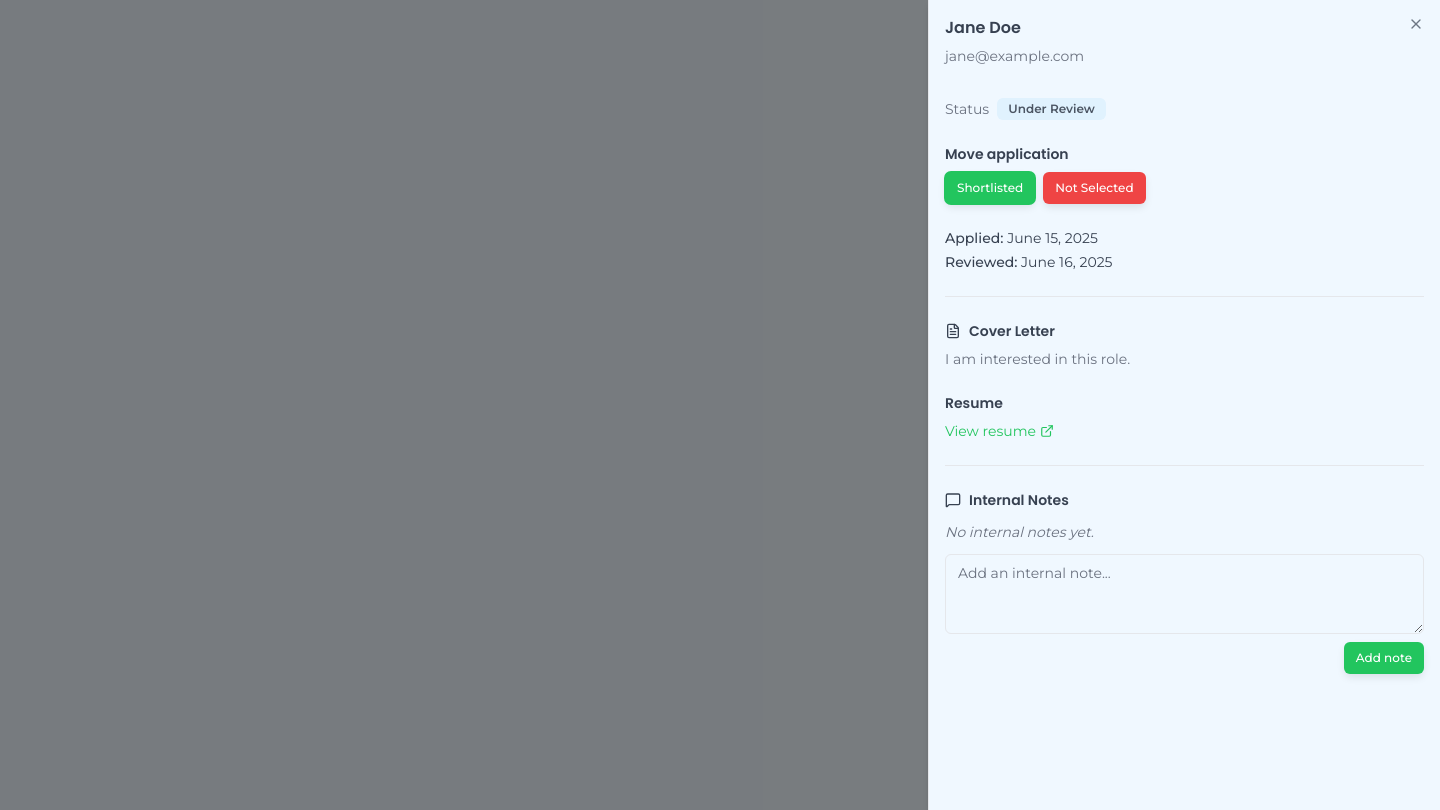
Scenario: ApplicantDetailSheet notes › adds a note and refreshes the thread
In the text box labelled "Add an internal note...": (1184,594) [945,554,1424,634], type "Follow up next week."
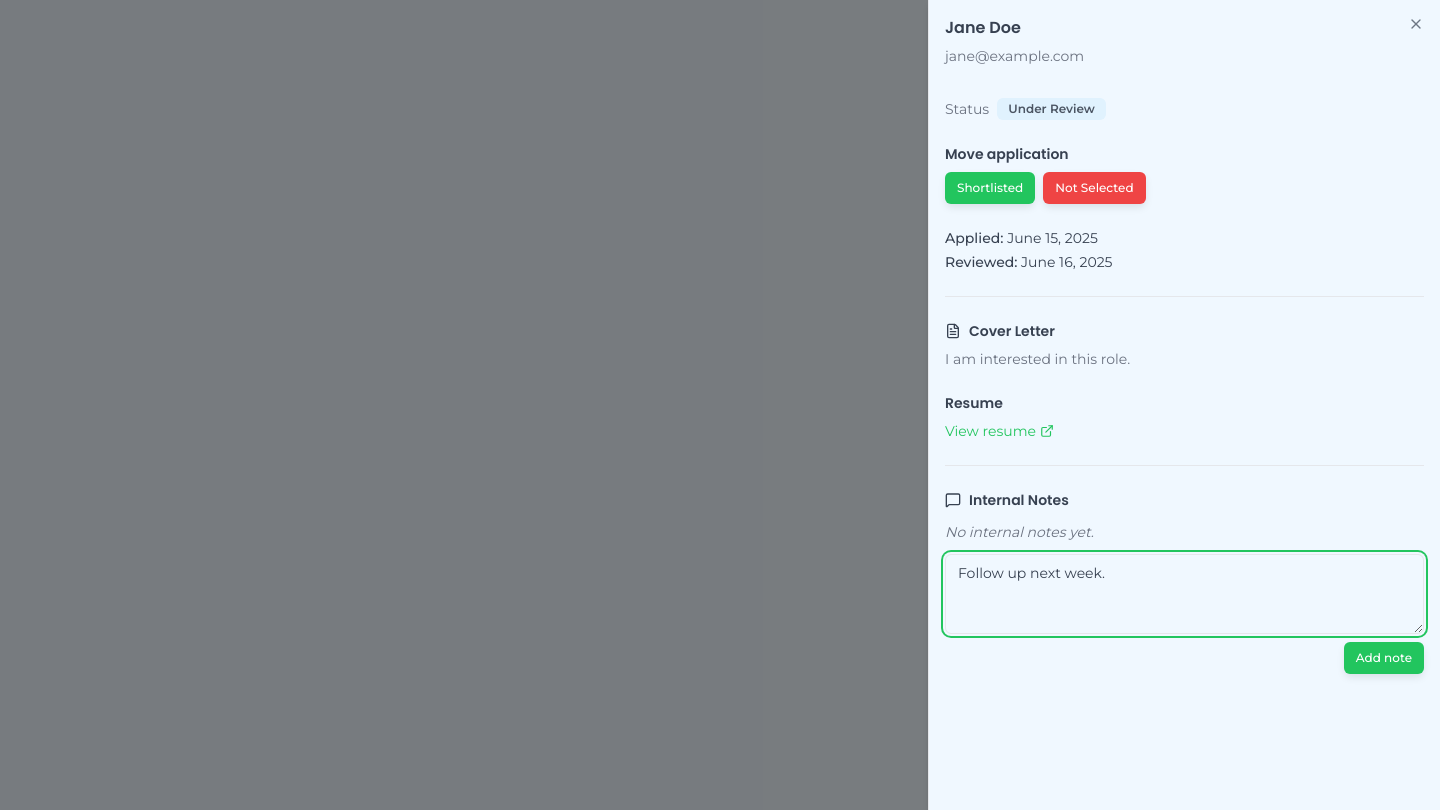
Click the button "Add note": (1384,658) [1344,642,1424,674]
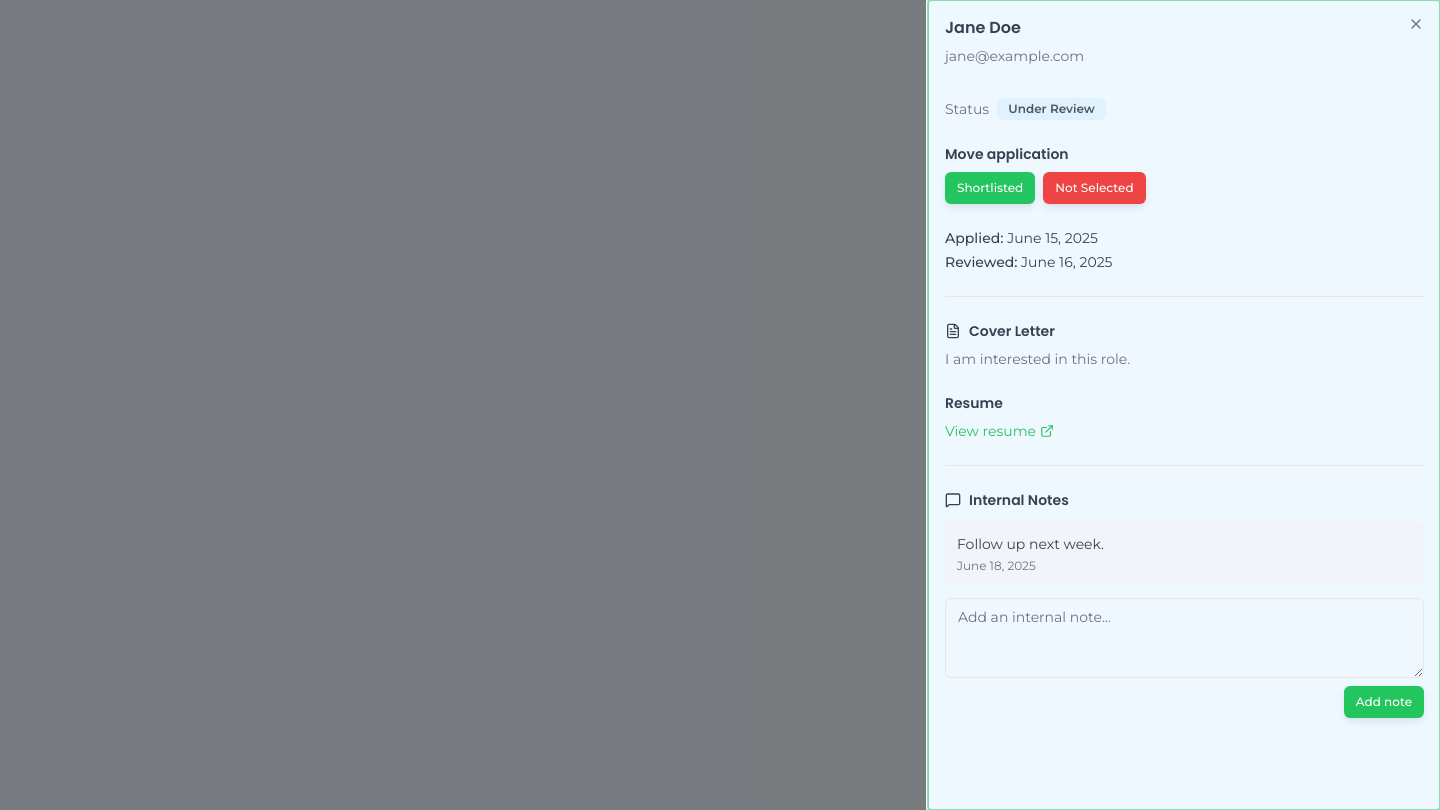
Result: the text "Follow up next week." is shown at [957,535,1104,553]
